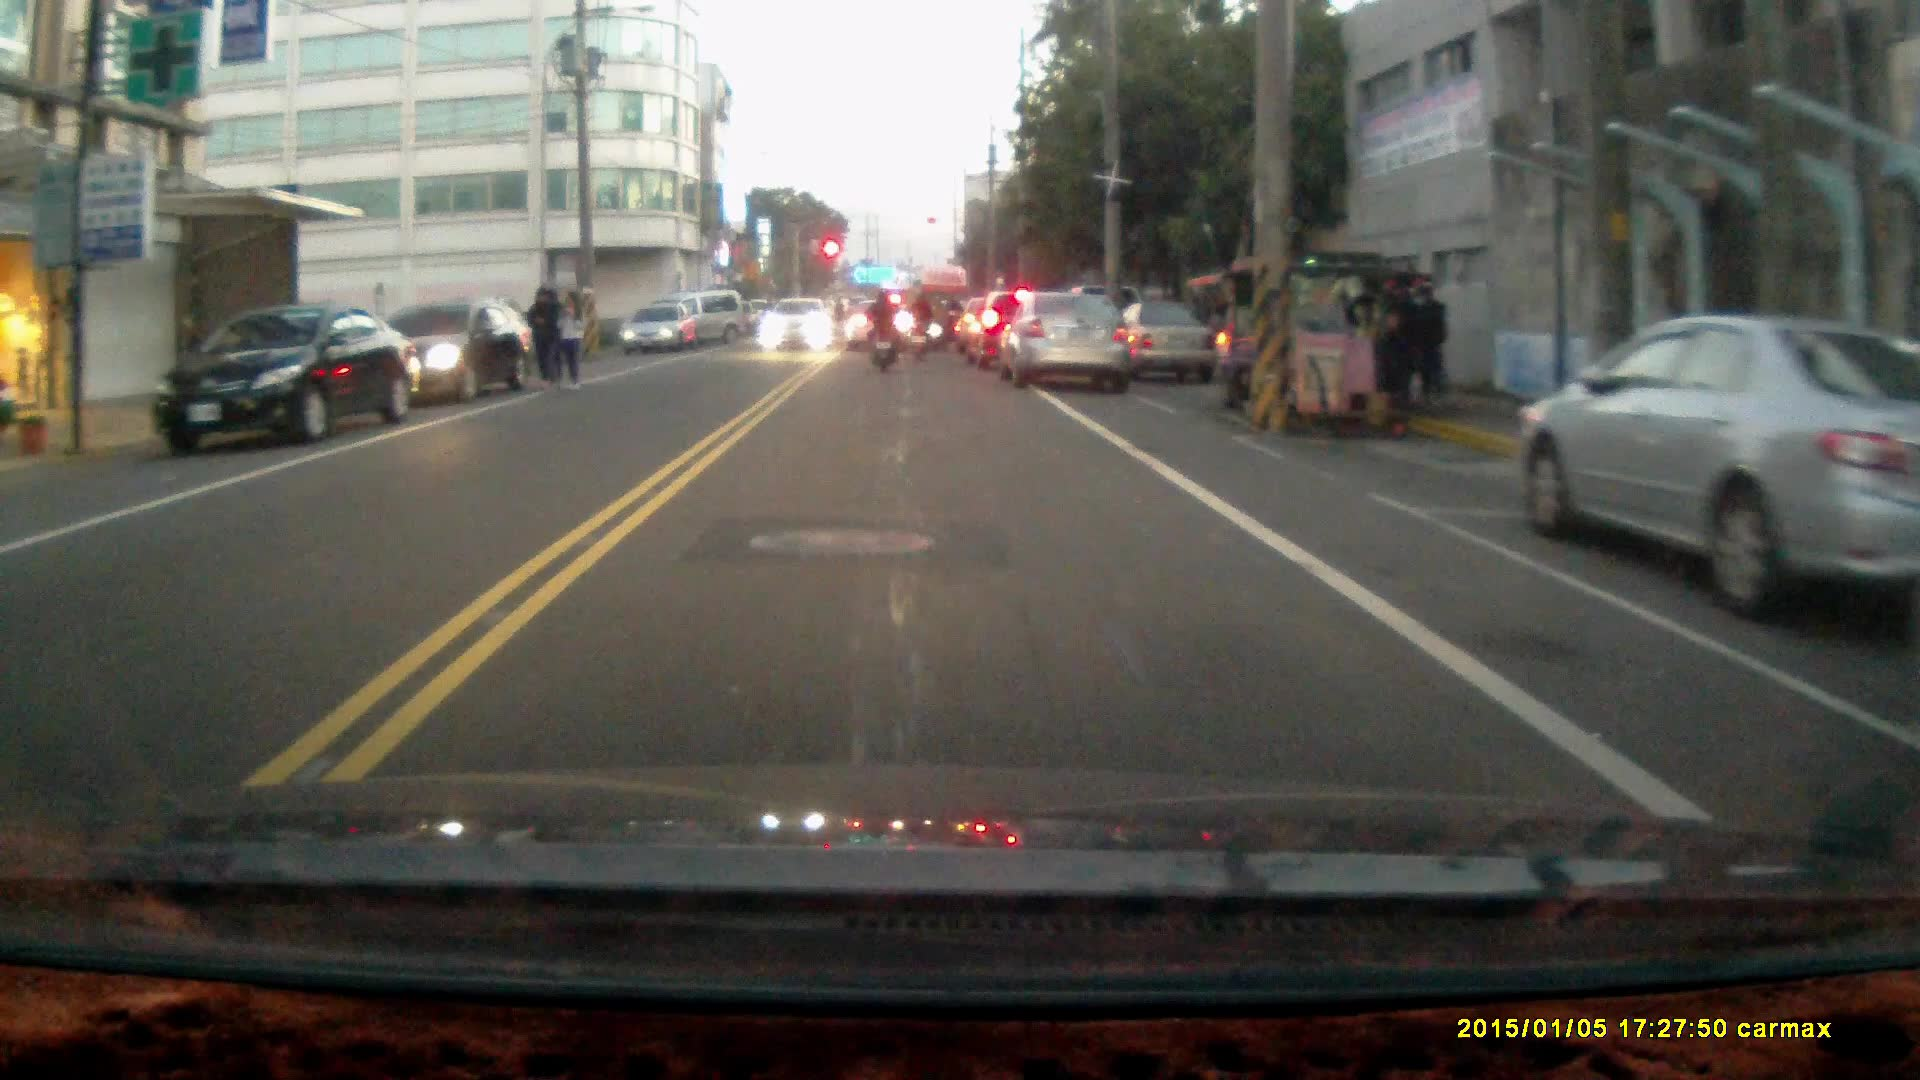pedestrian: (1409, 280, 1453, 408), (524, 282, 564, 391), (557, 286, 585, 390)
rider: (864, 284, 899, 373), (904, 287, 935, 362)
vehicle: (1512, 315, 1920, 630), (1211, 251, 1441, 429), (156, 302, 414, 450), (383, 298, 539, 407), (1005, 289, 1139, 393), (764, 294, 841, 354), (624, 300, 706, 352)
